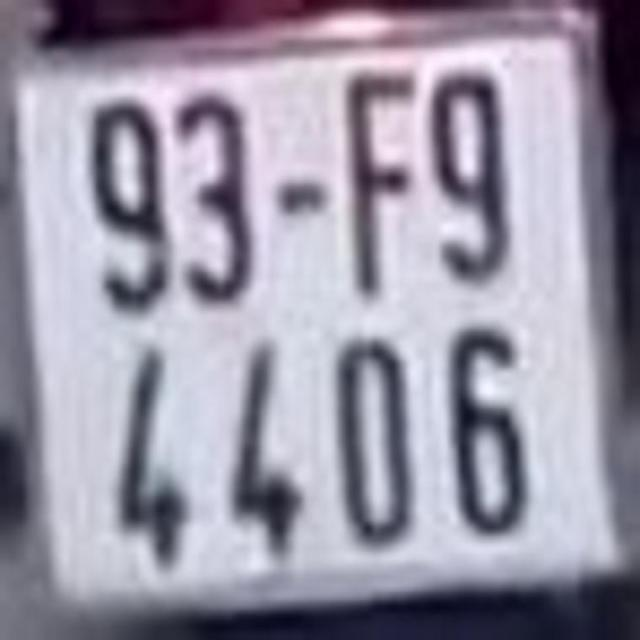0: (332, 334, 420, 540)
3: (176, 90, 251, 303)
4: (234, 335, 313, 552), (114, 345, 184, 562)
6: (448, 322, 526, 533)
9: (436, 62, 515, 280), (91, 91, 168, 306)
F: (344, 72, 419, 304)
